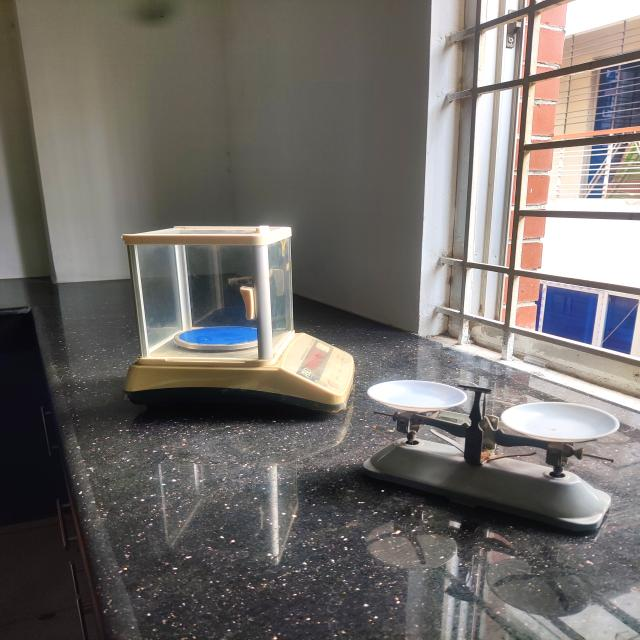Mechanical_Balance_Scale: (345, 352, 640, 568)
Precision_Weight_Scale: (90, 200, 367, 435)
